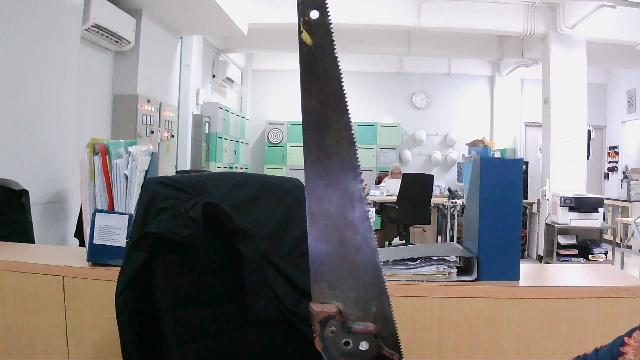gergaji_kayu: (282, 1, 423, 360)
